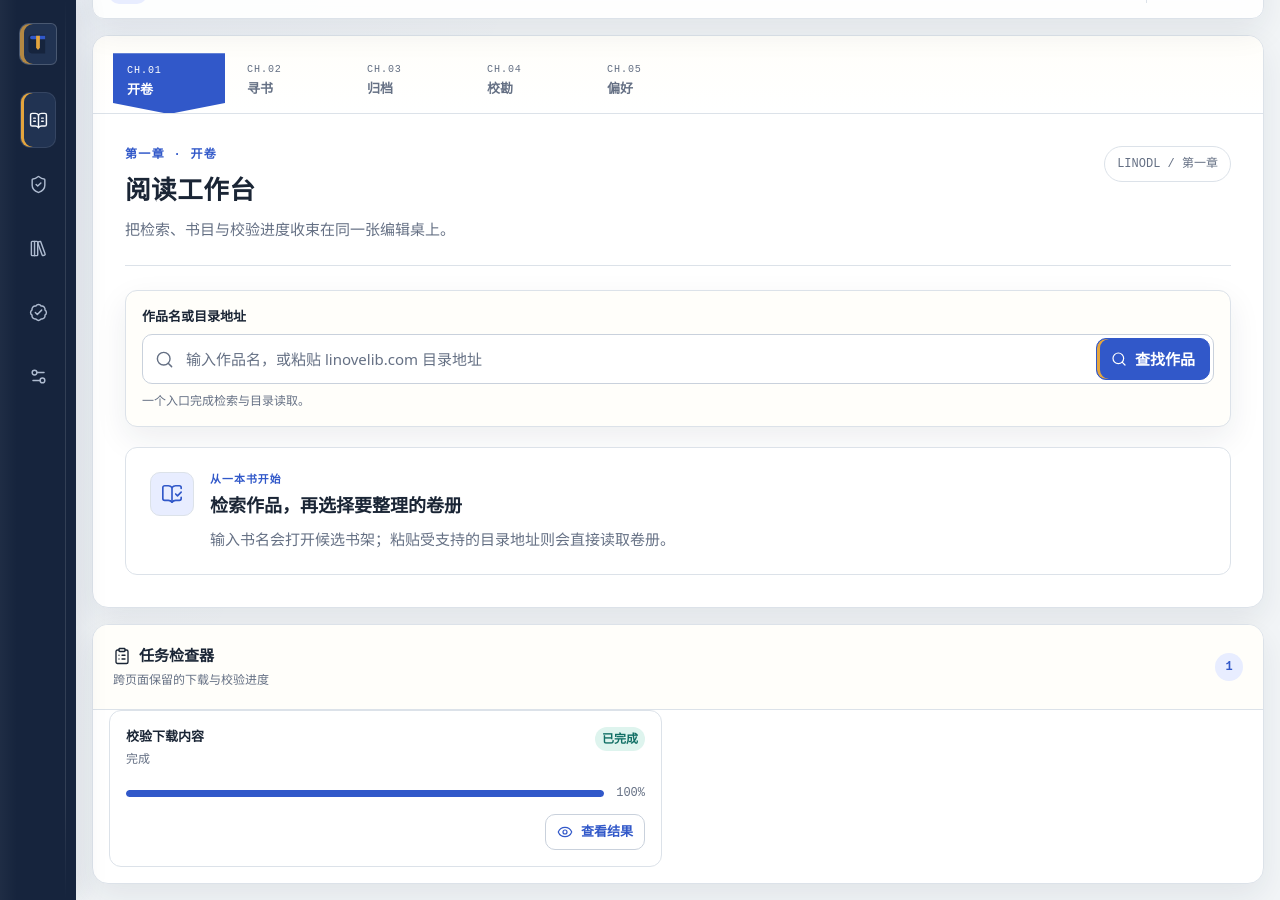
Scenario: DesktopShell › opens completed verification results on the verification page
(page scrolled)
Click the button named "查看校验下载内容结果": (595, 832) [545,814,645,850]
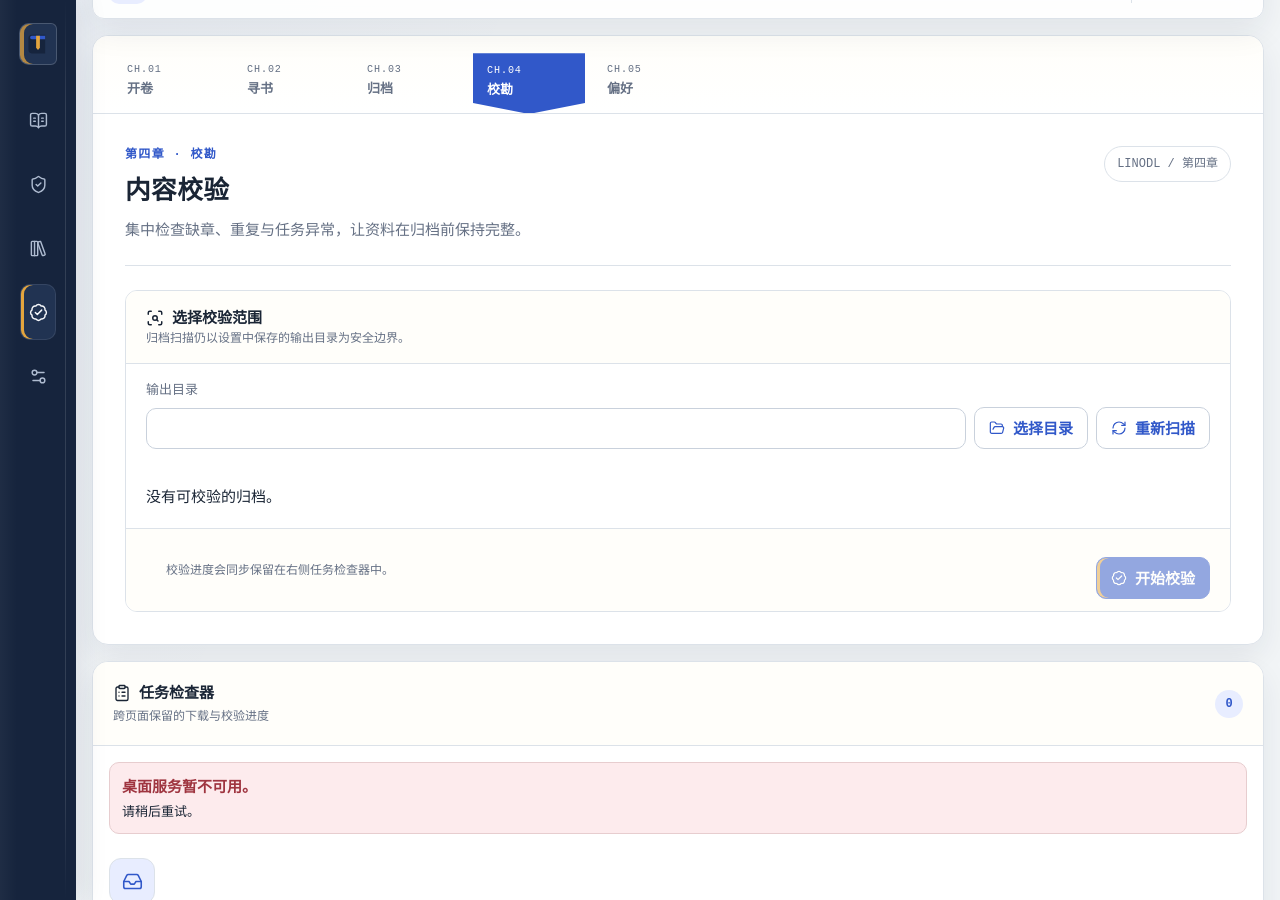
Check: the heading "内容校验" is shown, box [125,176,229,205]
